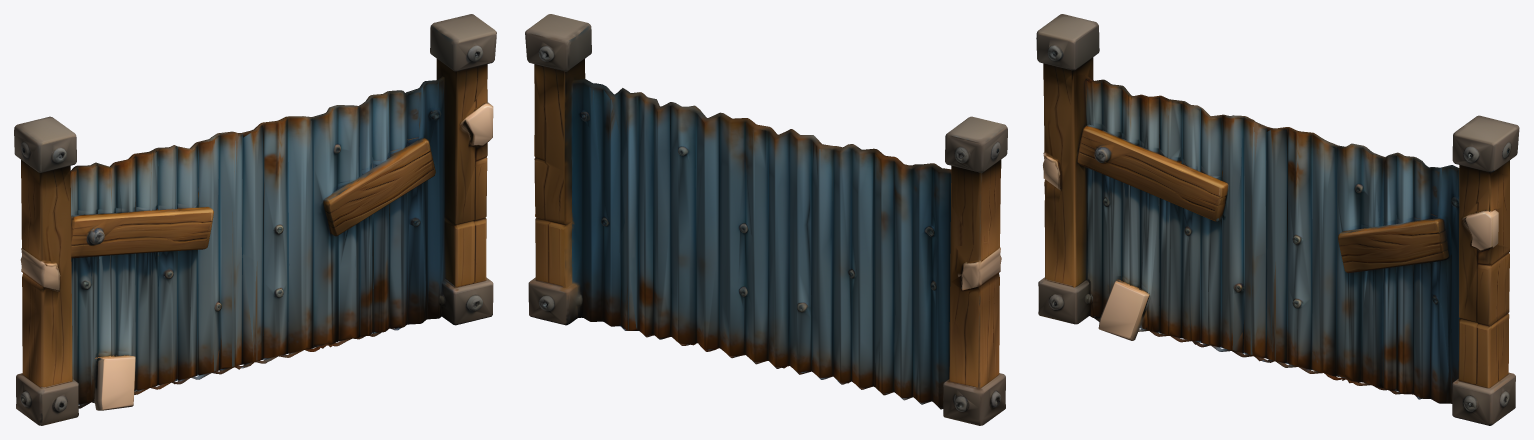
The model's file is yard_fence.fbx.
3 renders of one model, left to right at view 1: azimuth 30°, elevation 25°; view 2: azimuth 150°, elevation 25°; view 3: azimuth 330°, elevation 25°, orthographic.
Visible parts, largest first — view 1: node_0; view 2: node_0; view 3: node_0.
Part boxes in pixels (bbox=[...]): node_0: bbox=[14, 14, 496, 425]; node_0: bbox=[525, 14, 1007, 425]; node_0: bbox=[1036, 14, 1519, 425].
Size of the model in its own units: 103 by 61.71 by 11.55.
1 material, 1 textured.
